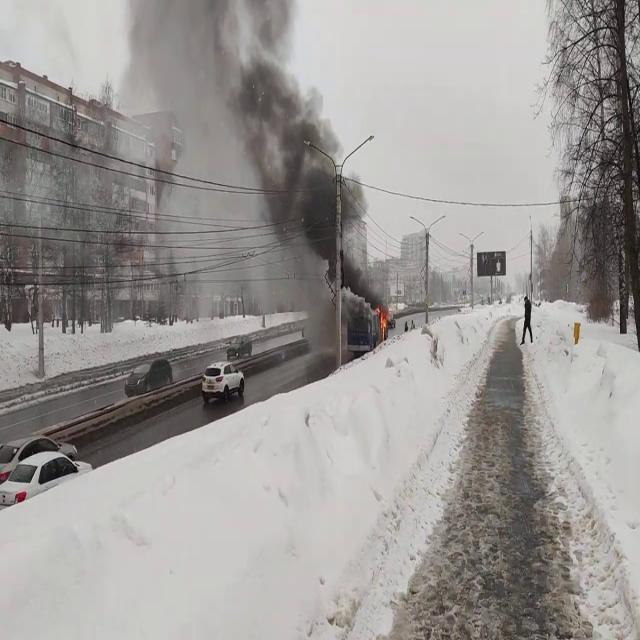Fire: (374, 299, 390, 340)
Smoke: (94, 0, 378, 304)
